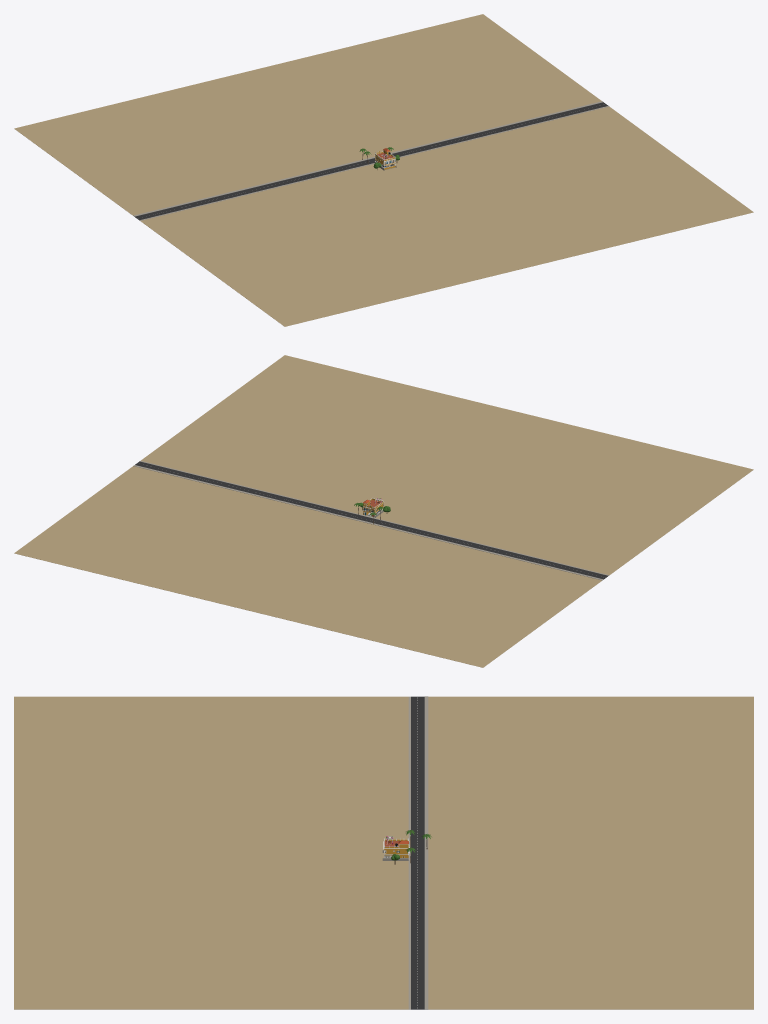
The model's file is home_hotel.glb.
3 renders of one model, top to bottom at view 1: azimuth 30°, elevation 25°; view 2: azimuth 150°, elevation 25°; view 3: azimuth 270°, elevation 25°, orthographic. The views are drawn at different scales.
Parts seen in each view (by area): view 1: SITE__Earth, SITE__Asphalt, SITE__Concrete; view 2: SITE__Earth, SITE__Asphalt, SITE__Concrete; view 3: SITE__Earth, SITE__Asphalt, SITE__Concrete.
Part boxes in pixels (x1,y1,x2,y2): SITE__Earth: [14, 14, 753, 326]; SITE__Asphalt: [135, 102, 608, 220]; SITE__Concrete: [133, 101, 609, 220]; SITE__Earth: [14, 355, 753, 667]; SITE__Asphalt: [135, 461, 607, 579]; SITE__Concrete: [133, 460, 609, 580]; SITE__Earth: [14, 696, 753, 1009]; SITE__Asphalt: [411, 696, 424, 1009]; SITE__Concrete: [382, 696, 428, 1009].
Size of the model in its own units: 366 by 10.49 by 366.
